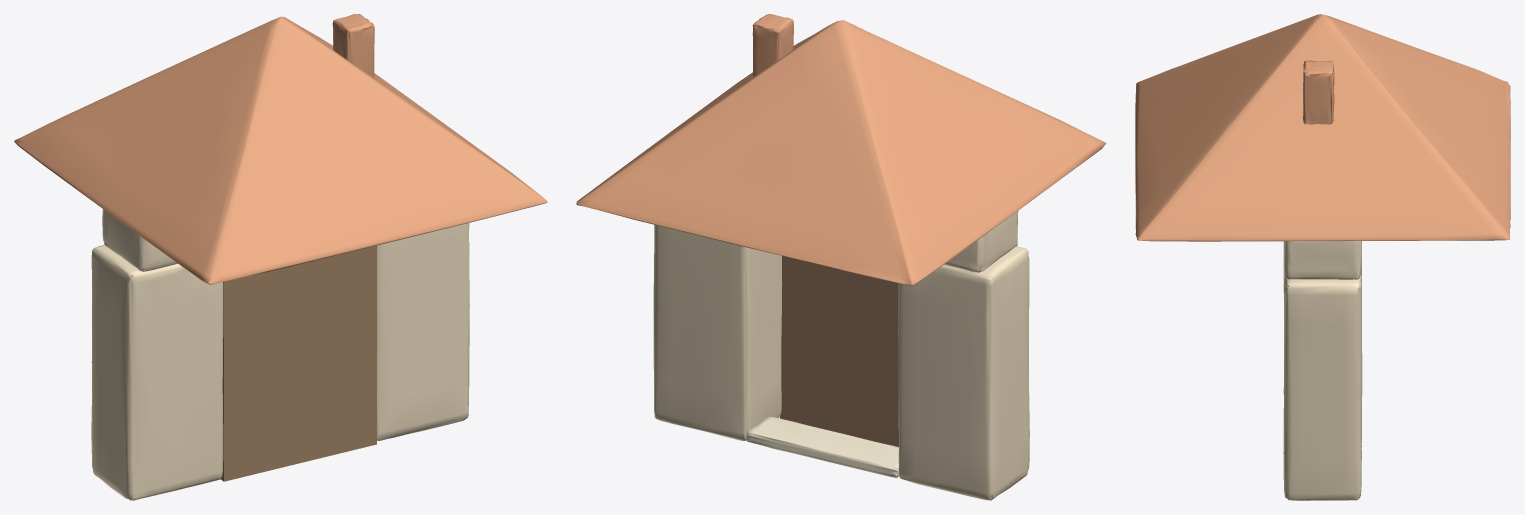
File: house.glb
The picture shows the model from 3 angles, left to right: view 1: azimuth 30°, elevation 25°; view 2: azimuth 150°, elevation 25°; view 3: azimuth 270°, elevation 25°; orthographic projection. The views are drawn at different scales.
Visible parts, largest first — view 1: house; view 2: house; view 3: house.
Boxes of the visible parts, x1,y1,x2,y2 form: house: [14, 14, 547, 500]; house: [576, 14, 1106, 500]; house: [1135, 14, 1510, 500].
Bounding box in the file's own units: 1.84 × 2.21 × 1.84.
